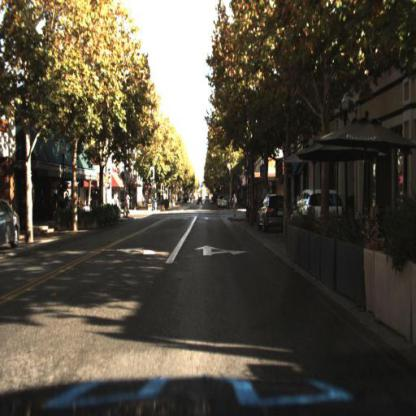car: (293, 188, 344, 224), (256, 193, 292, 238), (1, 201, 21, 250)
pedestrian: (233, 194, 239, 213), (127, 195, 132, 215)
trafficLight-Red: (226, 158, 235, 181)
